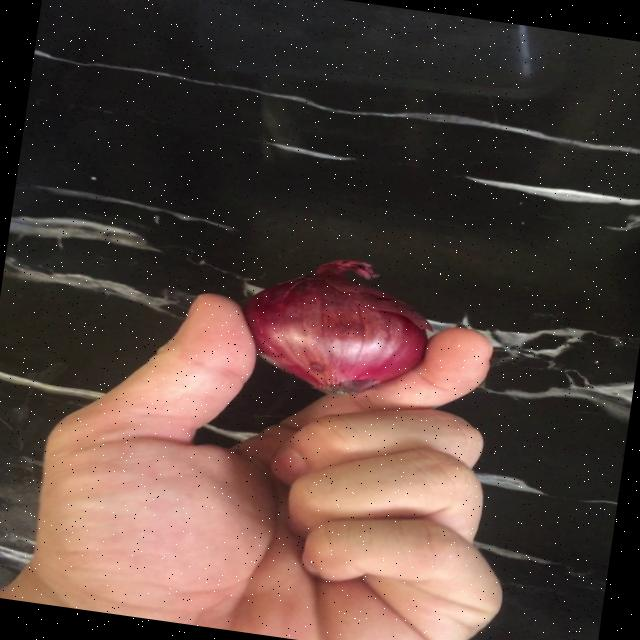Onion: (243, 260, 431, 395)
